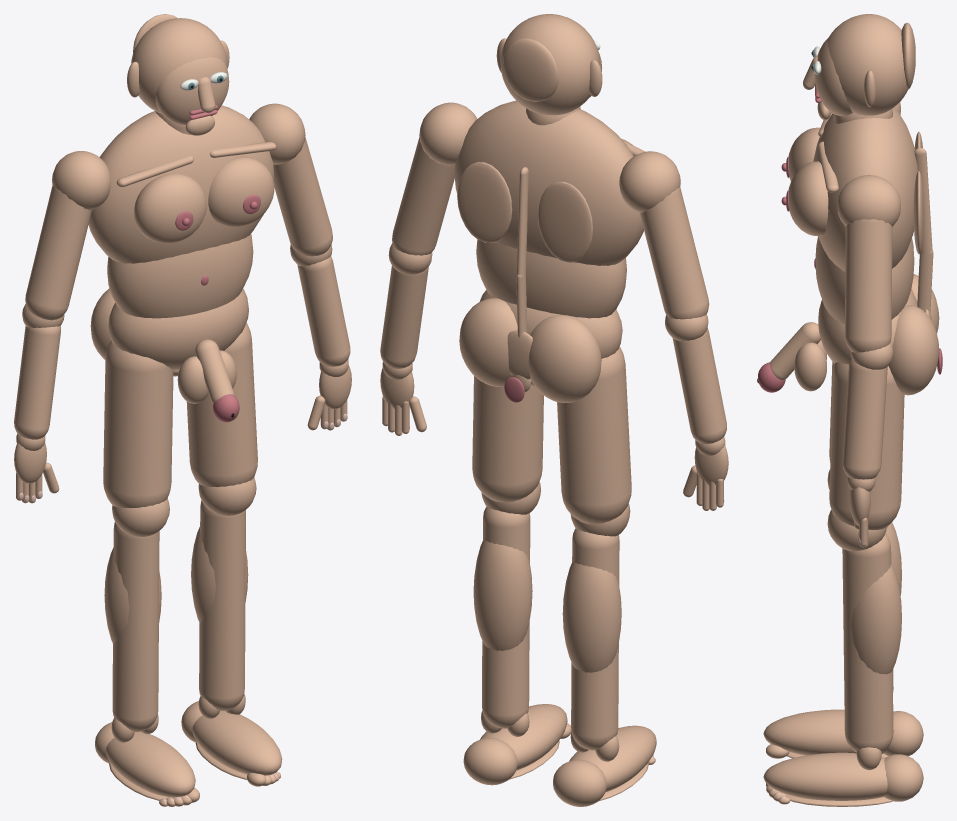
File: body-erwachsener-divers-penis-brueste-v2.glb
3 views of the same model, side by side, from view 1: azimuth 30°, elevation 25°; view 2: azimuth 150°, elevation 25°; view 3: azimuth 270°, elevation 25° (orthographic). The views are drawn at different scales.
Parts seen in each view (by area): view 1: zone__surface-chest, zone__surface-thigh-left, zone__surface-abdomen, zone__surface-lower-leg-left, zone__surface-lower-leg-right, zone__surface-thigh-right, zone__surface-pelvis, zone__surface-upper-arm-left, zone__surface-scalp, zone__surface-upper-arm-right, zone__surface-forearm-left, zone__surface-foot-right (+18 smaller); view 2: zone__surface-chest, zone__surface-thigh-left, zone__surface-thigh-right, zone__surface-abdomen, zone__surface-upper-arm-left, zone__surface-calf-left, zone__surface-calf-right, zone__surface-lower-leg-left, zone__surface-lower-leg-right, zone__surface-buttock-left, zone__surface-scalp, zone__surface-upper-arm-right (+21 smaller); view 3: zone__surface-chest, zone__surface-lower-leg-right, zone__surface-upper-arm-right, zone__surface-thigh-right, zone__surface-scalp, zone__surface-foot-right, zone__surface-forearm-right, zone__surface-calf-right, zone__surface-buttock-right, zone__surface-foot-left, zone__surface-abdomen, zone__surface-shoulder-right (+23 smaller).
Boxes of the visible parts, x1=… form: zone__surface-chest: x1=88, y1=105, x2=273, y2=263; zone__surface-thigh-left: x1=103, y1=341, x2=173, y2=507; zone__surface-abdomen: x1=107, y1=234, x2=253, y2=318; zone__surface-lower-leg-left: x1=112, y1=522, x2=159, y2=731; zone__surface-lower-leg-right: x1=199, y1=500, x2=245, y2=710; zone__surface-thigh-right: x1=186, y1=322, x2=257, y2=487; zone__surface-pelvis: x1=108, y1=289, x2=248, y2=370; zone__surface-upper-arm-left: x1=25, y1=185, x2=91, y2=320; zone__surface-scalp: x1=131, y1=18, x2=227, y2=113; zone__surface-upper-arm-right: x1=273, y1=137, x2=332, y2=256; zone__surface-forearm-left: x1=14, y1=326, x2=60, y2=439; zone__surface-foot-right: x1=192, y1=711, x2=282, y2=775; zone__surface-chest: x1=454, y1=100, x2=643, y2=265; zone__surface-thigh-left: x1=557, y1=346, x2=631, y2=524; zone__surface-thigh-right: x1=472, y1=376, x2=543, y2=502; zone__surface-abdomen: x1=476, y1=239, x2=626, y2=318; zone__surface-upper-arm-left: x1=639, y1=187, x2=709, y2=319; zone__surface-calf-left: x1=562, y1=562, x2=621, y2=672; zone__surface-calf-right: x1=473, y1=540, x2=532, y2=650; zone__surface-lower-leg-left: x1=571, y1=528, x2=619, y2=750; zone__surface-lower-leg-right: x1=482, y1=506, x2=530, y2=728; zone__surface-buttock-left: x1=528, y1=314, x2=601, y2=402; zone__surface-scalp: x1=500, y1=14, x2=600, y2=115; zone__surface-upper-arm-right: x1=392, y1=137, x2=454, y2=255; zone__surface-chest: x1=813, y1=107, x2=917, y2=271; zone__surface-lower-leg-right: x1=842, y1=533, x2=893, y2=752; zone__surface-upper-arm-right: x1=845, y1=219, x2=892, y2=352; zone__surface-thigh-right: x1=829, y1=362, x2=904, y2=529; zone__surface-scalp: x1=827, y1=14, x2=908, y2=115; zone__surface-foot-right: x1=763, y1=752, x2=887, y2=800; zone__surface-forearm-right: x1=842, y1=358, x2=887, y2=479; zone__surface-calf-right: x1=851, y1=564, x2=901, y2=674; zone__surface-buttock-right: x1=888, y1=305, x2=939, y2=395; zone__surface-foot-left: x1=763, y1=709, x2=886, y2=755; zone__surface-abdomen: x1=815, y1=236, x2=914, y2=324; zone__surface-shoulder-right: x1=837, y1=175, x2=900, y2=226.
Bounding box in the file's own units: 0.816 × 1.72 × 0.3807.
